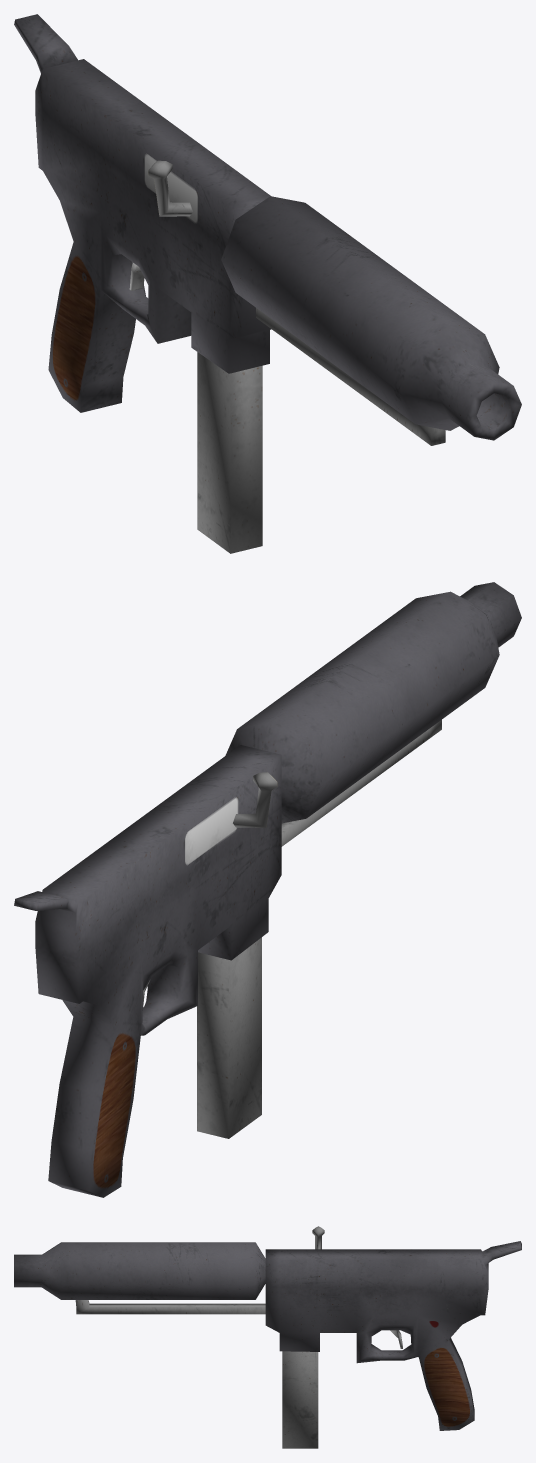
Rendered from SubMachineGun.fbx.
3 views of the same model, one above another, from view 1: azimuth 30°, elevation 25°; view 2: azimuth 150°, elevation 25°; view 3: azimuth 270°, elevation 25° (orthographic). The views are drawn at different scales.
Parts seen in each view (by area): view 1: submachineGun; view 2: submachineGun; view 3: submachineGun.
Part boxes in pixels (x1,y1,x2,y2): submachineGun: [14, 14, 521, 553]; submachineGun: [14, 582, 521, 1197]; submachineGun: [14, 1226, 521, 1448].
Bounding box in the file's own units: 7.42 × 53.42 × 23.56.
